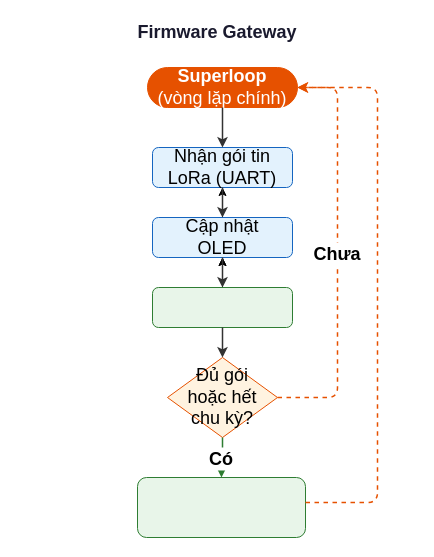
Some shapes in this 434 by 557 pixel diagram are drawn without their labels. The box of each missing label's shape, as (x1, y1, x2, y2) in pixels:
Serialize JSON + HTTP POST → Backend: (136, 476, 306, 538)
Tích luỹ vào Ring Buffer: (152, 286, 292, 328)
